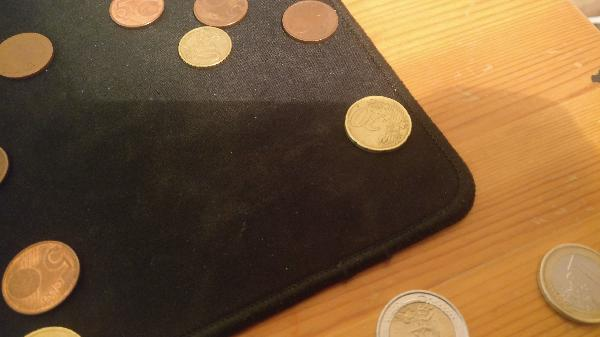Five Cent: (2, 242, 84, 318), (1, 34, 57, 82), (282, 1, 338, 43), (192, 1, 250, 29), (116, 1, 167, 29)
One Euro: (540, 242, 600, 329)
Ten Cent: (178, 26, 234, 69)
Twenty Cent: (344, 94, 413, 150)
Two Euro: (374, 289, 470, 337)
